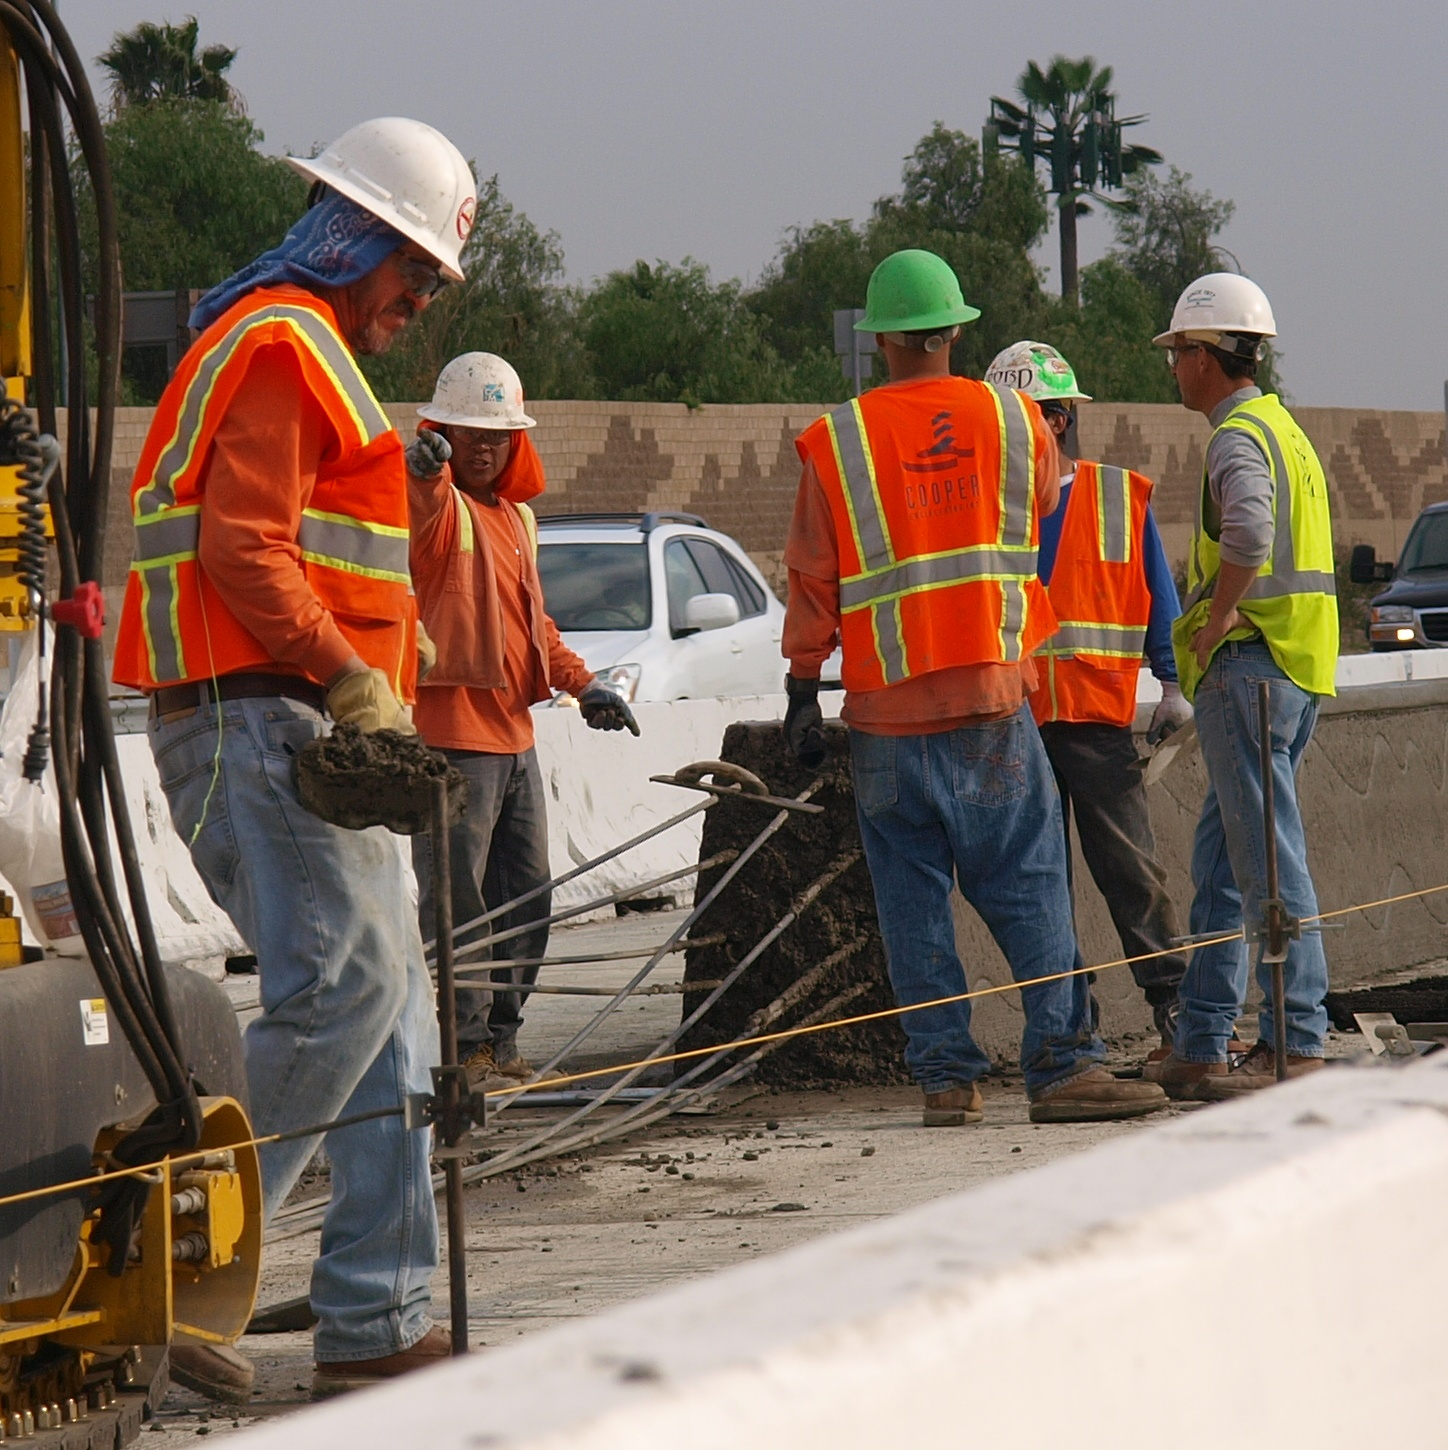white: (272, 103, 488, 349), (1150, 266, 1282, 416), (416, 341, 537, 493), (976, 331, 1087, 455)
